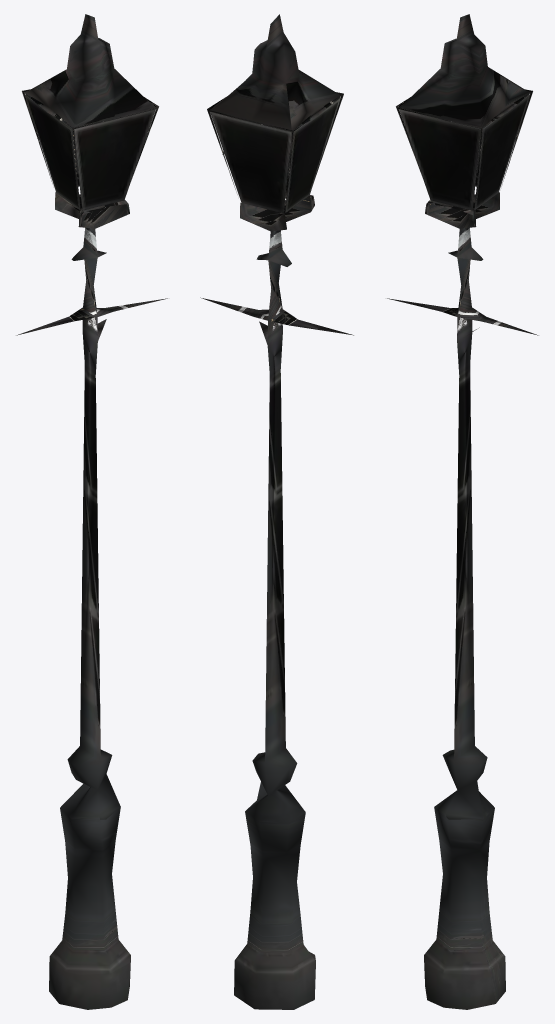
Rendered from lamp.glb.
3 renders of one model, left to right at view 1: azimuth 30°, elevation 25°; view 2: azimuth 150°, elevation 25°; view 3: azimuth 330°, elevation 25°, orthographic.
Visible parts, largest first — view 1: street_lamp_01; view 2: street_lamp_01; view 3: street_lamp_01.
Boxes of the visible parts, box(x1,y1,x2,y2) form: street_lamp_01: box(16, 14, 167, 1009); street_lamp_01: box(200, 14, 353, 1009); street_lamp_01: box(387, 14, 538, 1009).
Bounding box in the file's own units: 0.6441 × 3.85 × 0.3594.
2 materials, 2 textured.
